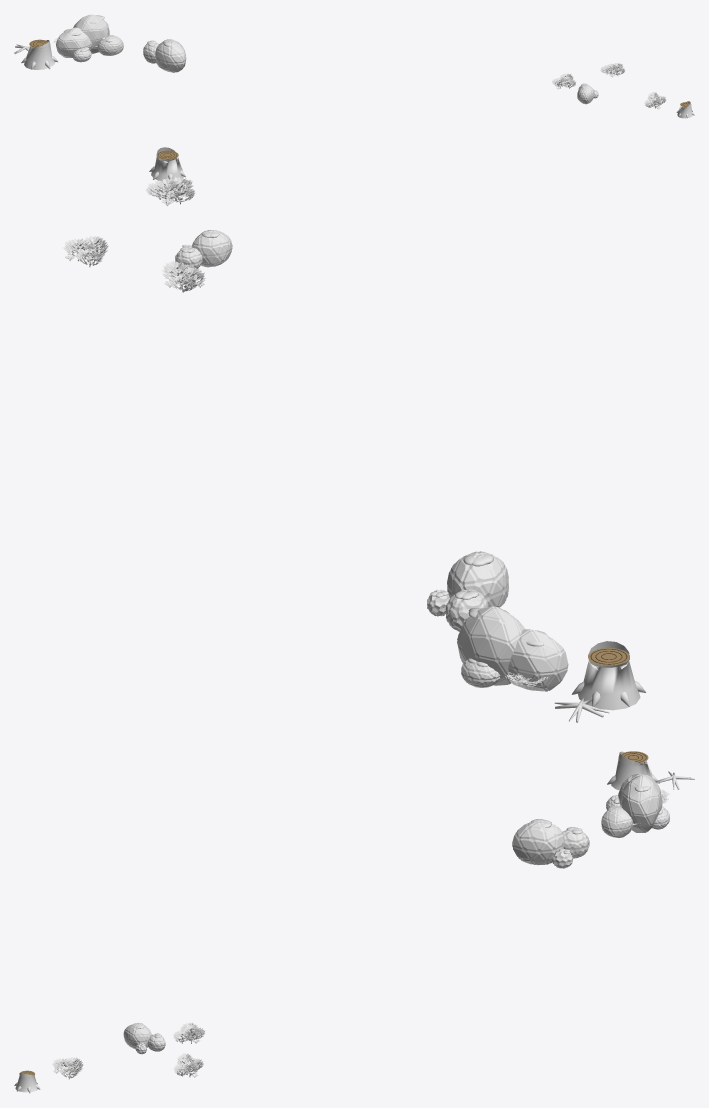
Rendered from SM_NW_Nature_1_1_Macro.fbx.
3 renders of one model, top to bottom at view 1: azimuth 30°, elevation 25°; view 2: azimuth 150°, elevation 25°; view 3: azimuth 270°, elevation 25°, orthographic. The views are drawn at different scales.
Visible parts, largest first — view 1: SM_NW_Nature_1_1_Macro; view 2: SM_NW_Nature_1_1_Macro; view 3: SM_NW_Nature_1_1_Macro.
Boxes of the visible parts, x1,y1,x2,y2 form: SM_NW_Nature_1_1_Macro: [14, 14, 694, 118]; SM_NW_Nature_1_1_Macro: [63, 147, 646, 722]; SM_NW_Nature_1_1_Macro: [14, 751, 694, 1093].
Size of the model in its own units: 2602 by 2360 by 216.
